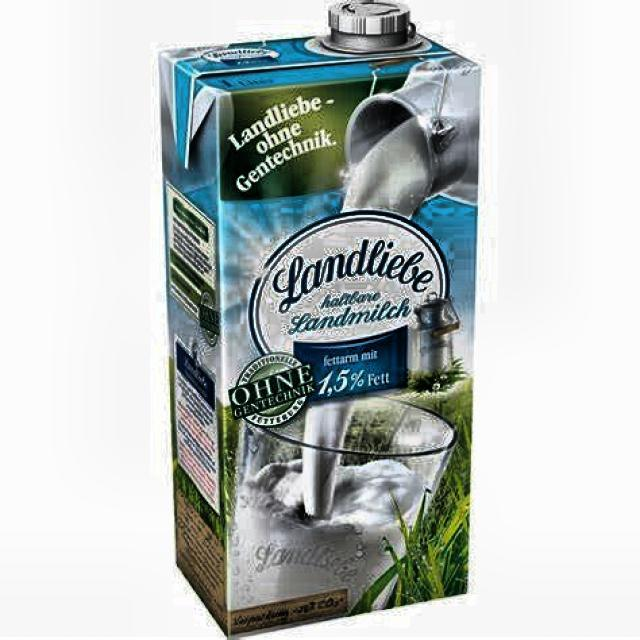cardboard: (157, 2, 480, 638)
